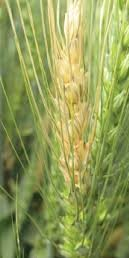Wheat scab: (36, 24, 97, 253)
